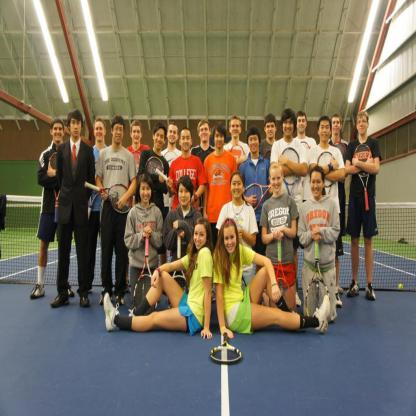face: (224, 226, 237, 254), (194, 224, 207, 250), (311, 174, 323, 199), (271, 169, 283, 193), (231, 176, 244, 198), (140, 182, 152, 204), (179, 184, 191, 206), (320, 119, 330, 142), (248, 135, 260, 154), (53, 124, 64, 144), (71, 118, 82, 138), (114, 124, 125, 144), (155, 128, 165, 150), (182, 131, 192, 152), (95, 122, 105, 142), (168, 125, 178, 145), (284, 117, 294, 136), (358, 116, 368, 135), (216, 130, 225, 149), (201, 124, 210, 143), (266, 123, 276, 140), (231, 121, 241, 137), (133, 126, 142, 143), (298, 117, 307, 133), (333, 118, 341, 134)
